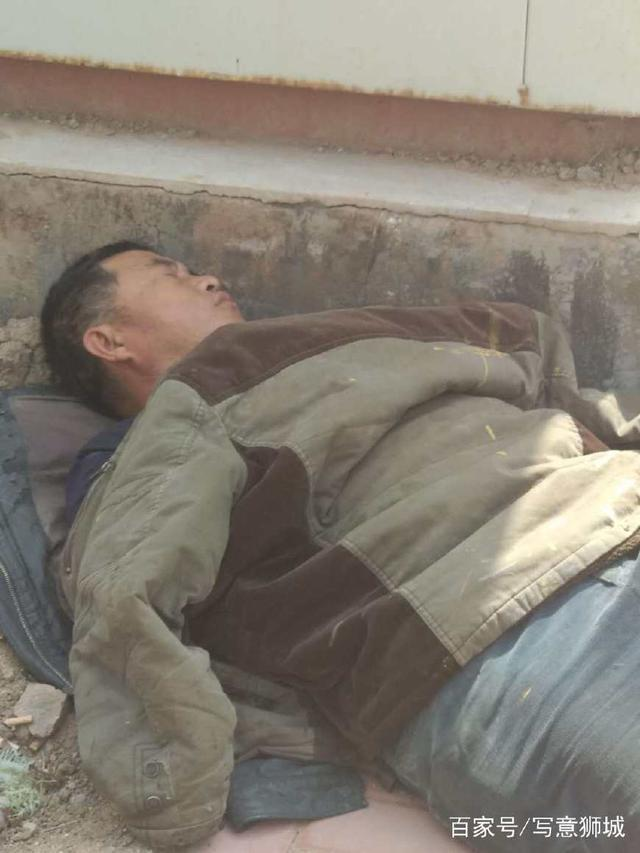Fall-Detected: (8, 234, 640, 853)
